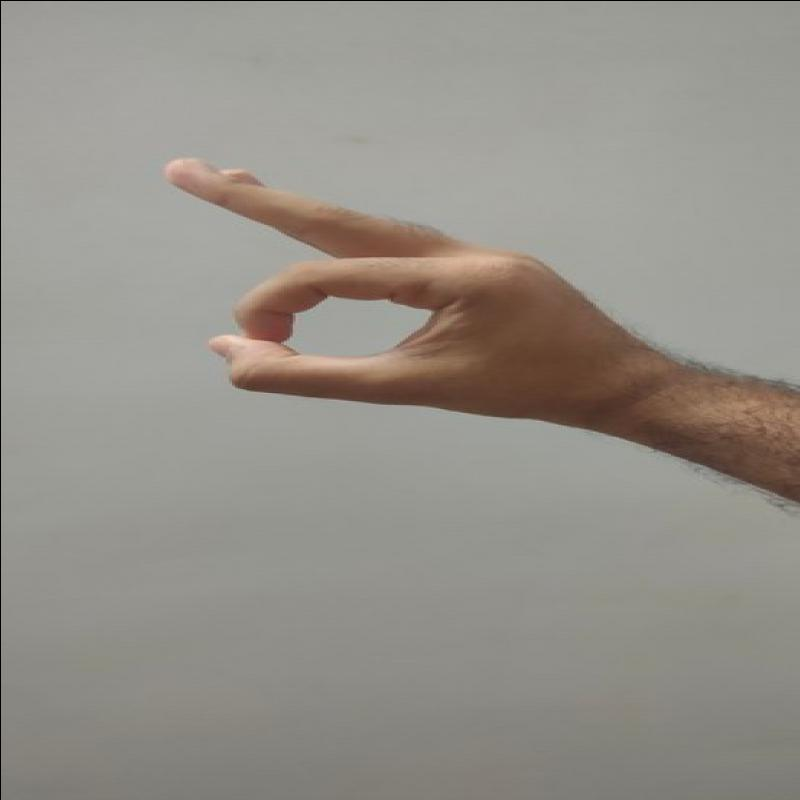Mudraakhyam: (153, 138, 628, 445)
